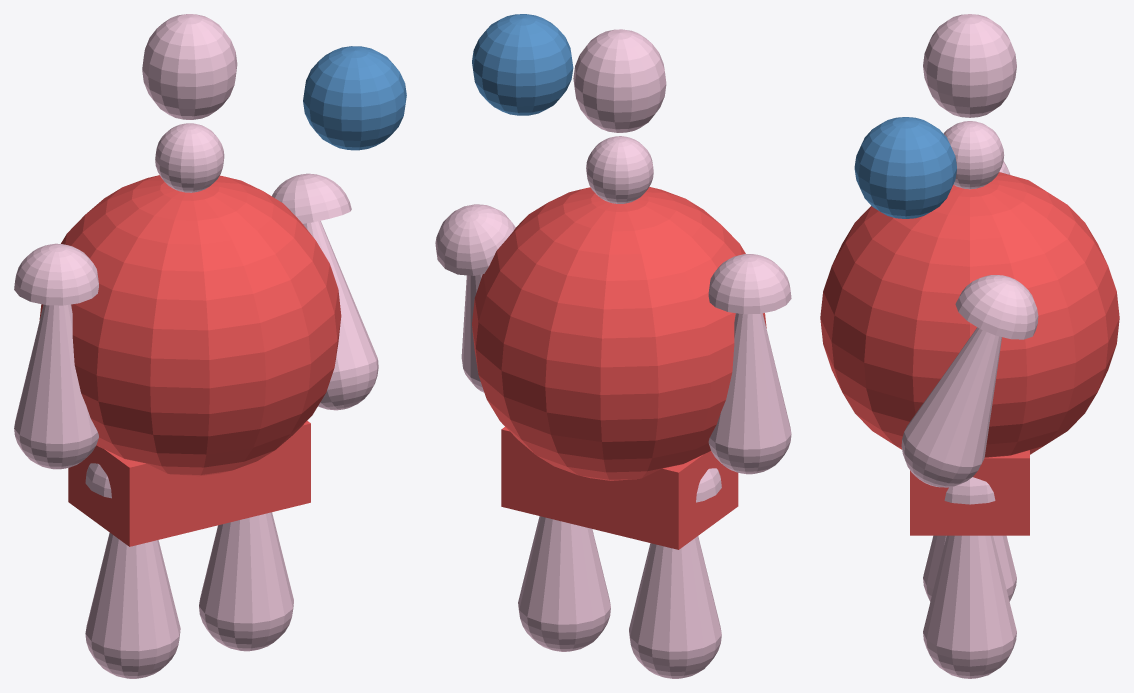
File: basketball_player.glb
The picture shows the model from 3 angles, left to right: view 1: azimuth 30°, elevation 25°; view 2: azimuth 150°, elevation 25°; view 3: azimuth 270°, elevation 25°; orthographic projection. The views are drawn at different scales.
Parts seen in each view (by area): view 1: torso, shorts, left_arm, left_leg, right_leg, basketball, head, right_arm, neck; view 2: torso, shorts, left_arm, left_leg, right_leg, basketball, head, right_arm, neck; view 3: torso, right_arm, right_leg, basketball, head, shorts, neck, left_leg.
Part boxes in pixels (box(x1,y1,x2,y2)): torso: box(39, 175, 341, 476); shorts: box(68, 420, 310, 546); left_arm: box(14, 243, 98, 469); left_leg: box(85, 463, 180, 678); right_leg: box(199, 512, 293, 651); basketball: box(303, 46, 406, 150); head: box(142, 14, 237, 119); right_arm: box(272, 173, 378, 410); neck: box(155, 123, 224, 192); torso: box(472, 187, 766, 480); shorts: box(501, 427, 738, 549); left_arm: box(708, 254, 791, 474); left_leg: box(629, 468, 721, 678); right_leg: box(518, 516, 610, 651); basketball: box(472, 14, 573, 115); head: box(573, 29, 666, 132); right_arm: box(435, 204, 515, 392); neck: box(586, 136, 653, 203); torso: box(820, 172, 1119, 457); right_arm: box(901, 275, 1038, 487); right_leg: box(923, 477, 1016, 678); basketball: box(854, 117, 956, 218); head: box(923, 14, 1016, 117); shorts: box(910, 450, 1029, 535); neck: box(943, 121, 1004, 189); left_leg: box(923, 535, 1016, 601).
Bounding box in the file's own units: 0.92 × 1.63 × 0.7.
